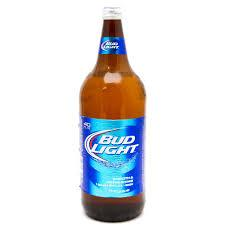Glass bottle: (70, 4, 162, 225)
